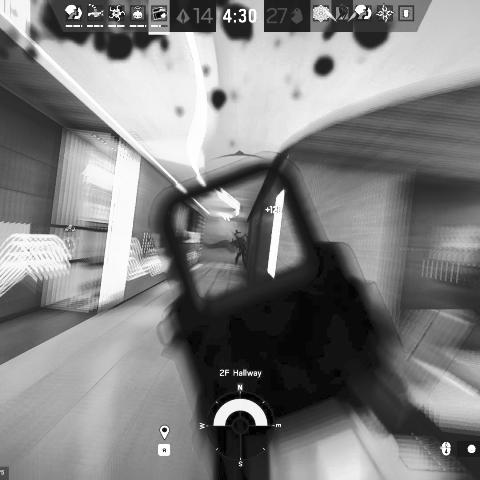Character: (234, 238, 247, 269)
Friend_label: (61, 224, 80, 241)
